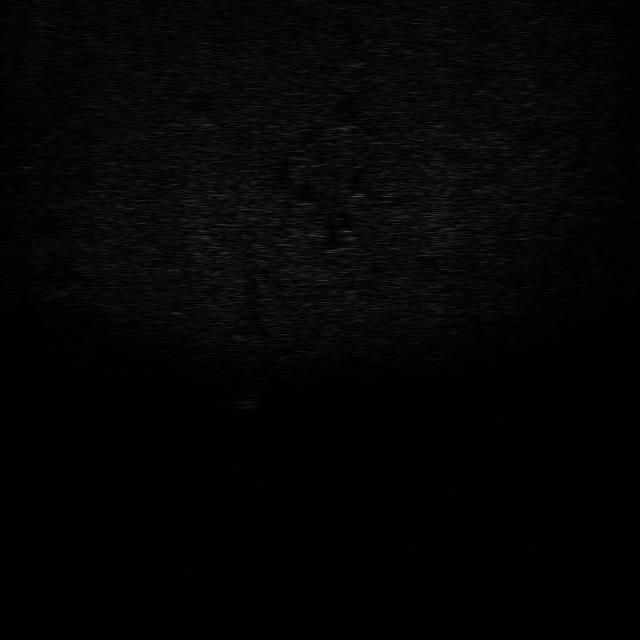human body: (232, 382, 268, 427)
